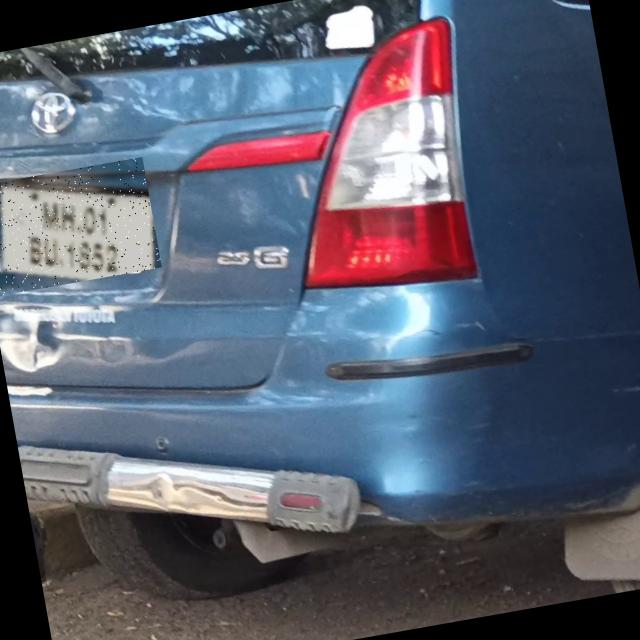Plate: (1, 157, 162, 296)
